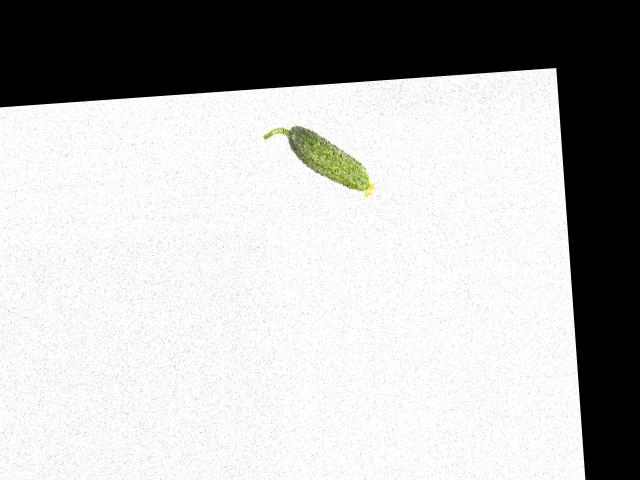cucumber: (264, 120, 376, 205)
